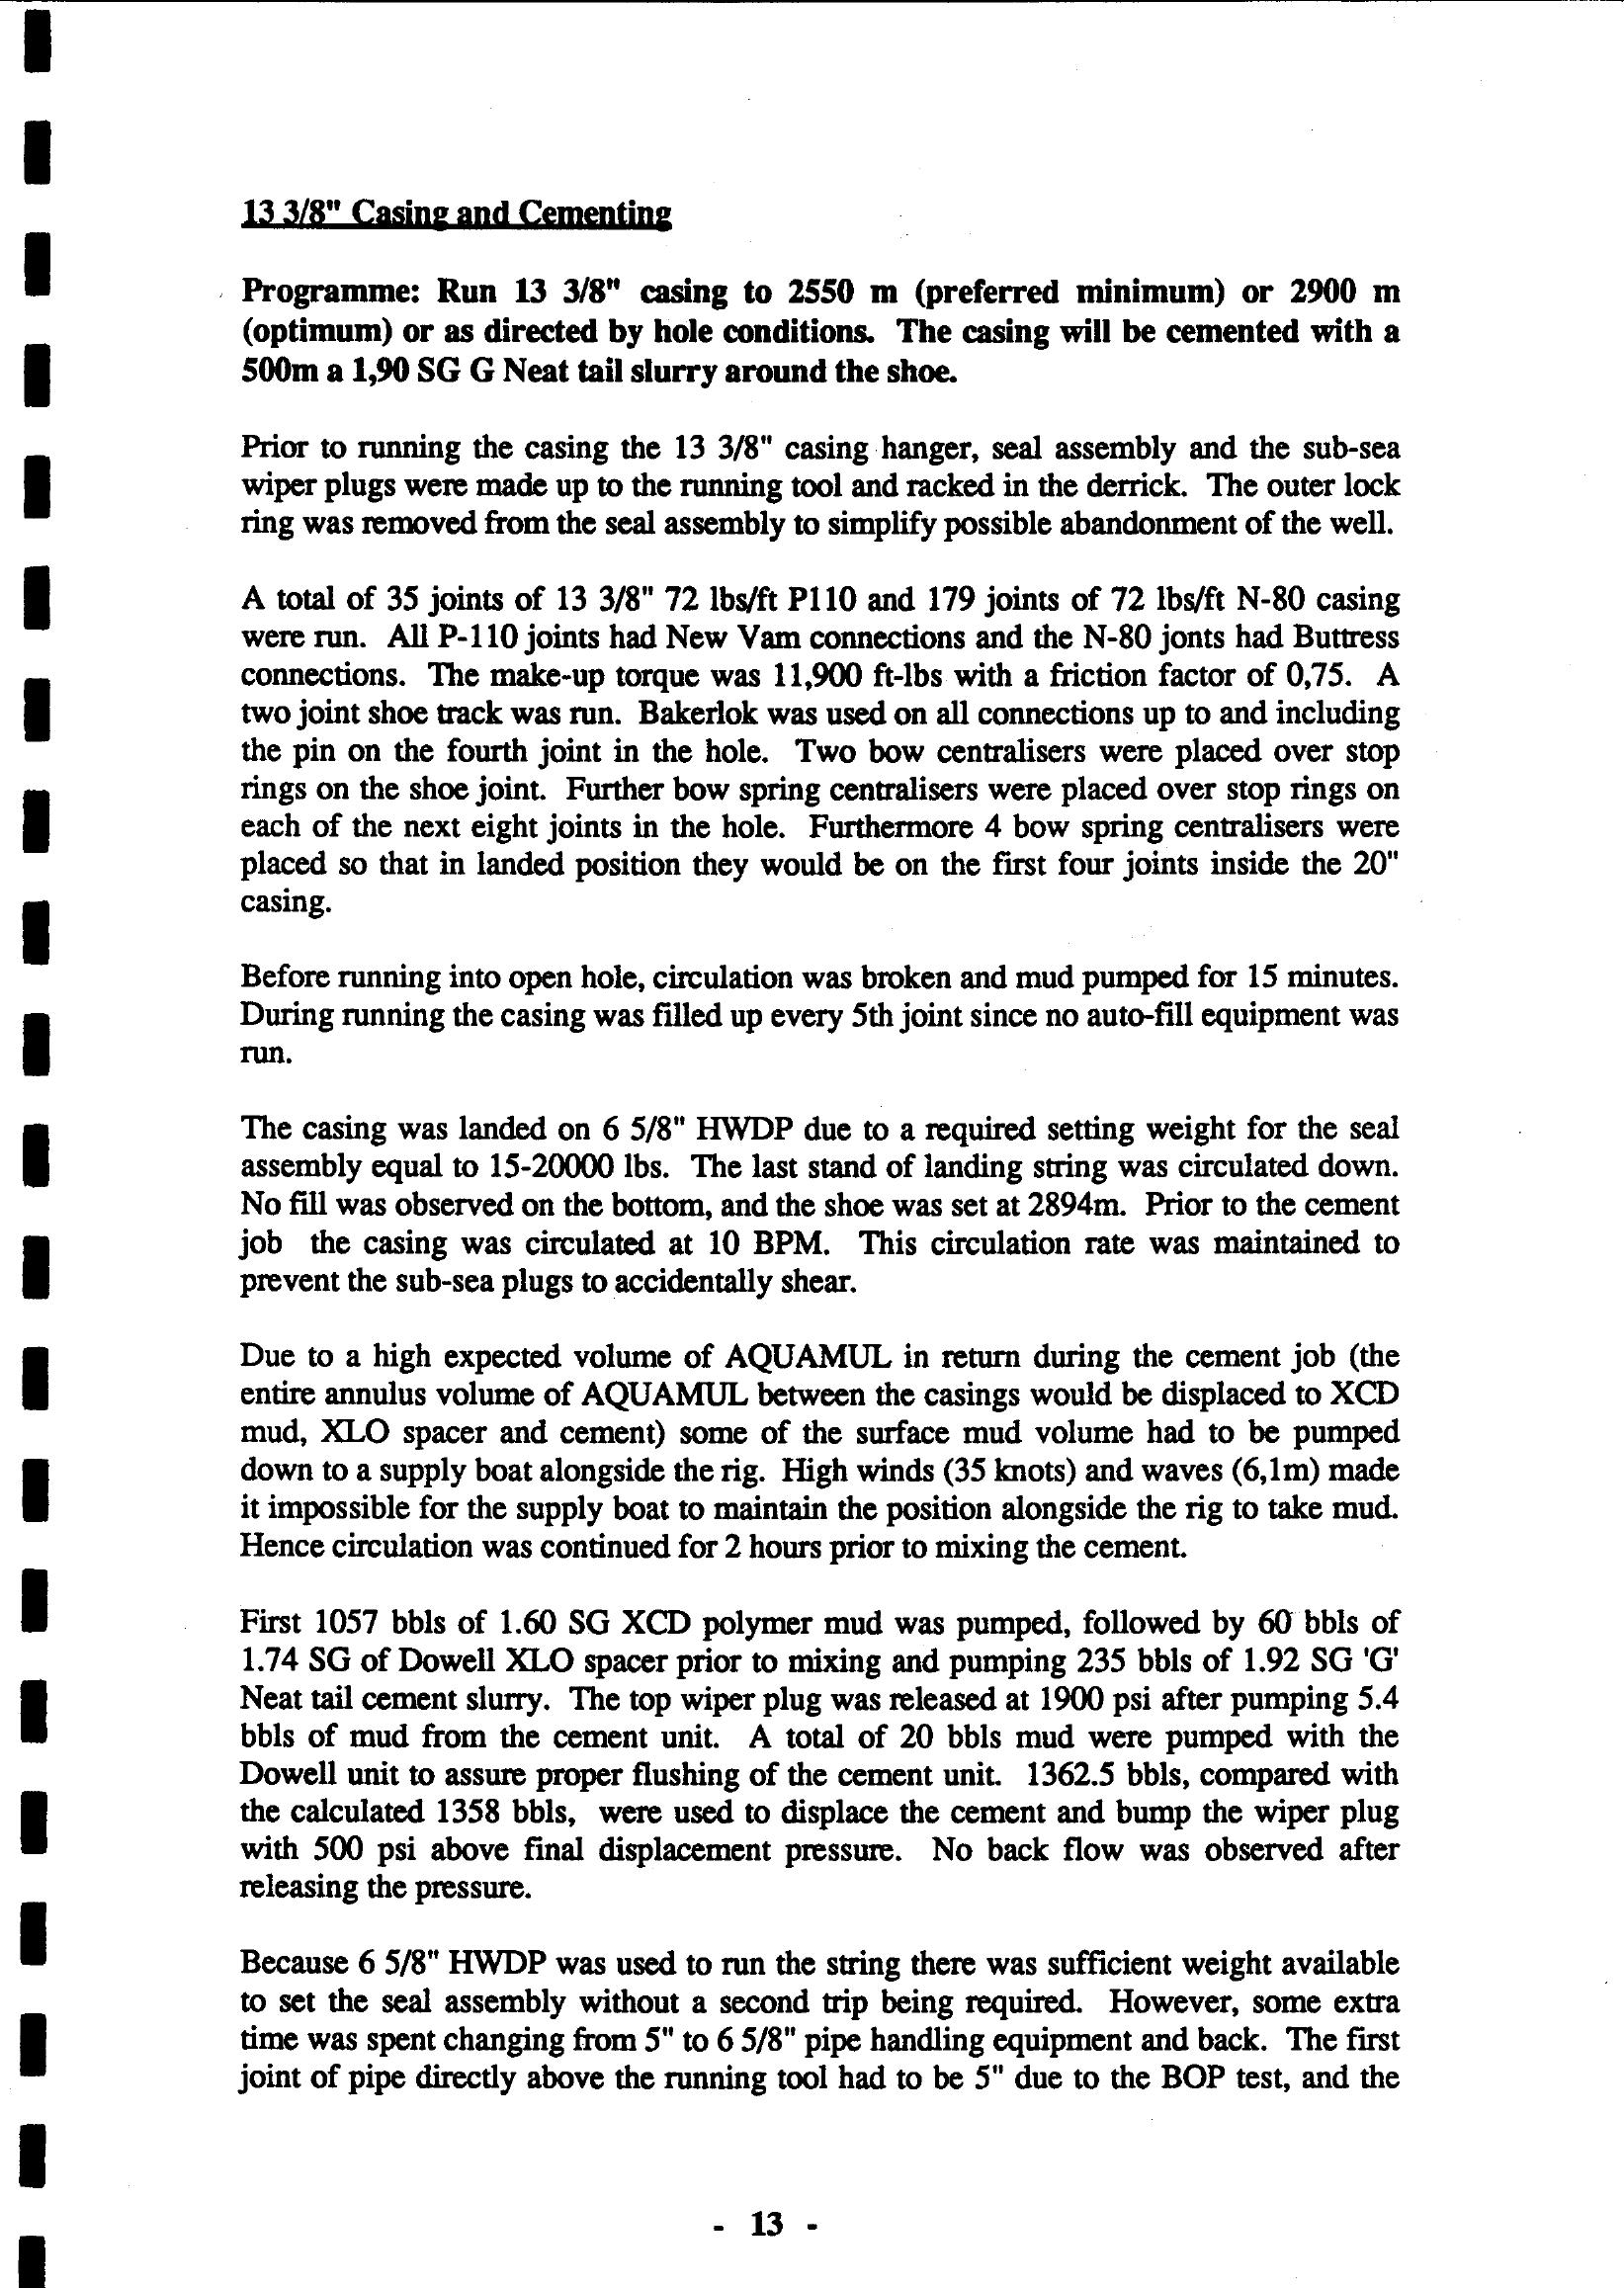text: (192, 170, 1443, 2132)
